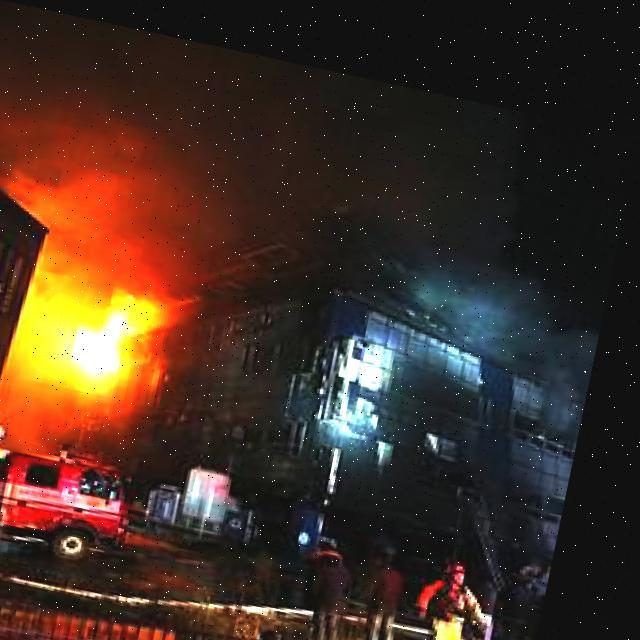Fire: (76, 280, 156, 382)
